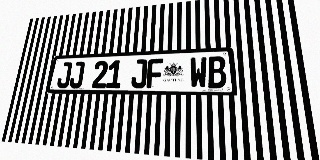1: (106, 60, 123, 88)
2: (92, 61, 108, 88)
B: (207, 56, 227, 88)
F: (146, 58, 163, 88)
J: (131, 59, 147, 88), (69, 61, 85, 88), (56, 62, 72, 88)
W: (190, 57, 208, 88)
